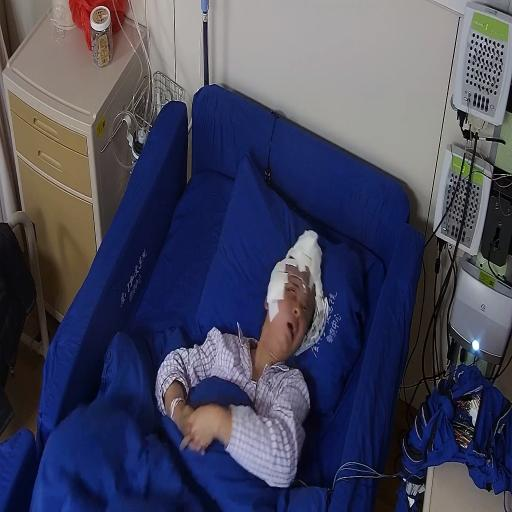Seizure: (266, 257, 322, 350)
